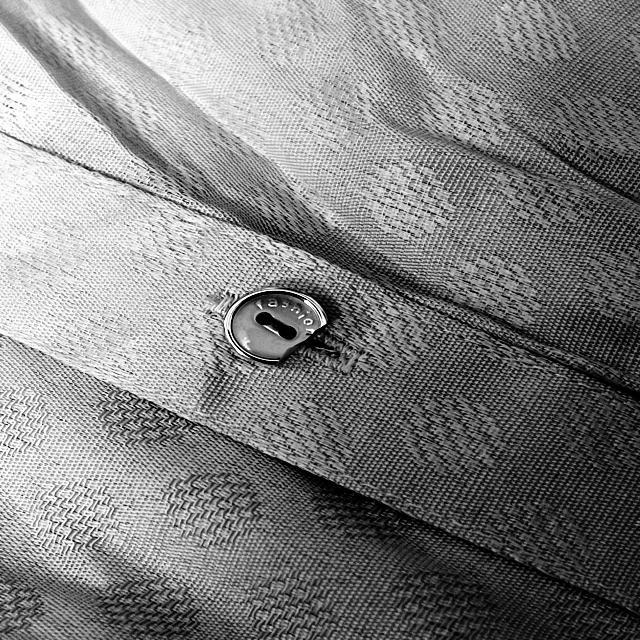Broken_button: (202, 278, 350, 381)
